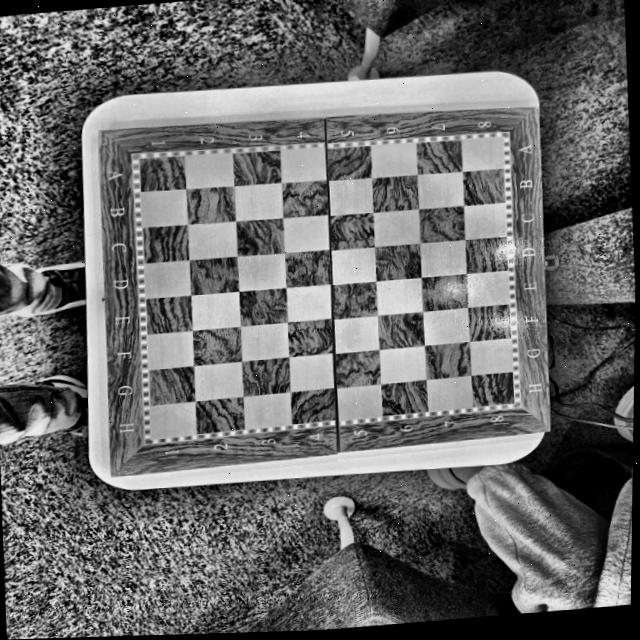chessboard: (83, 90, 557, 481)
